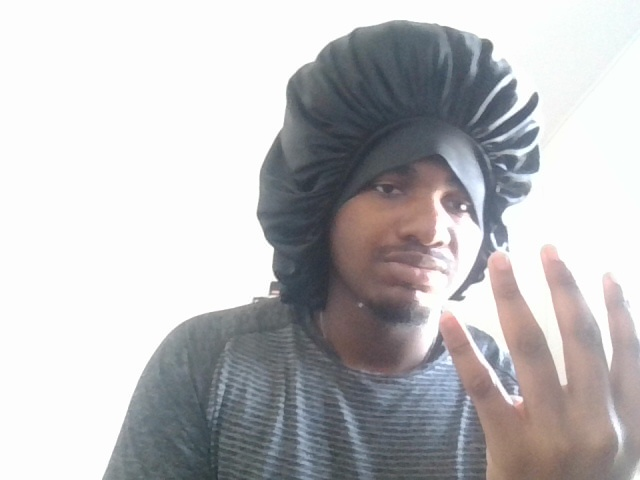I am Better Than Yu: (435, 238, 640, 474)
